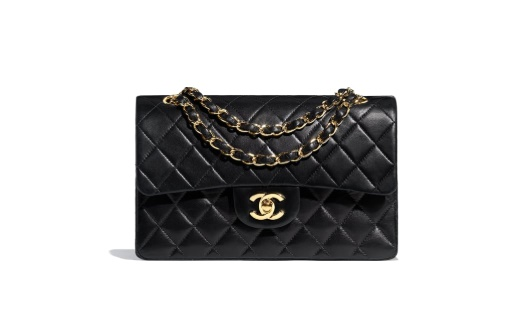channel: (126, 77, 406, 264), (209, 106, 336, 171), (244, 179, 302, 230)
